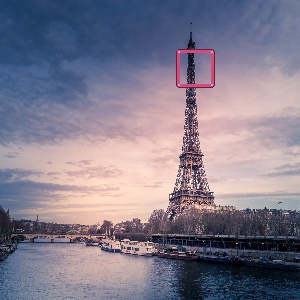square: (175, 49, 216, 88)
